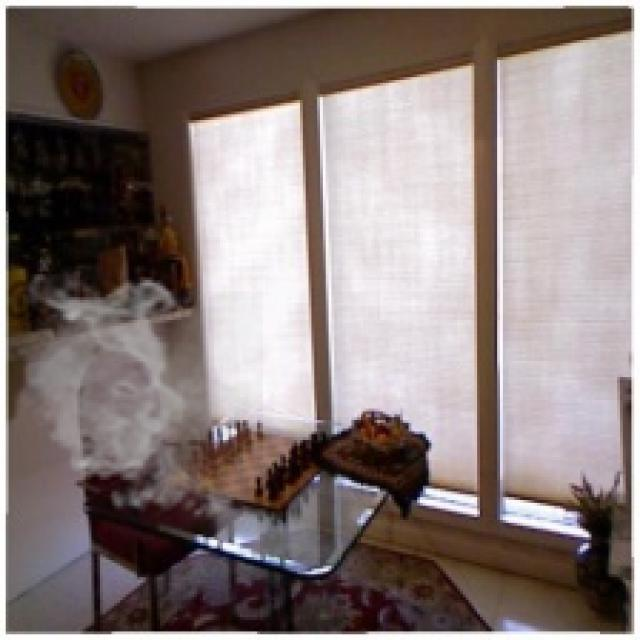smoke: (14, 274, 263, 526)
